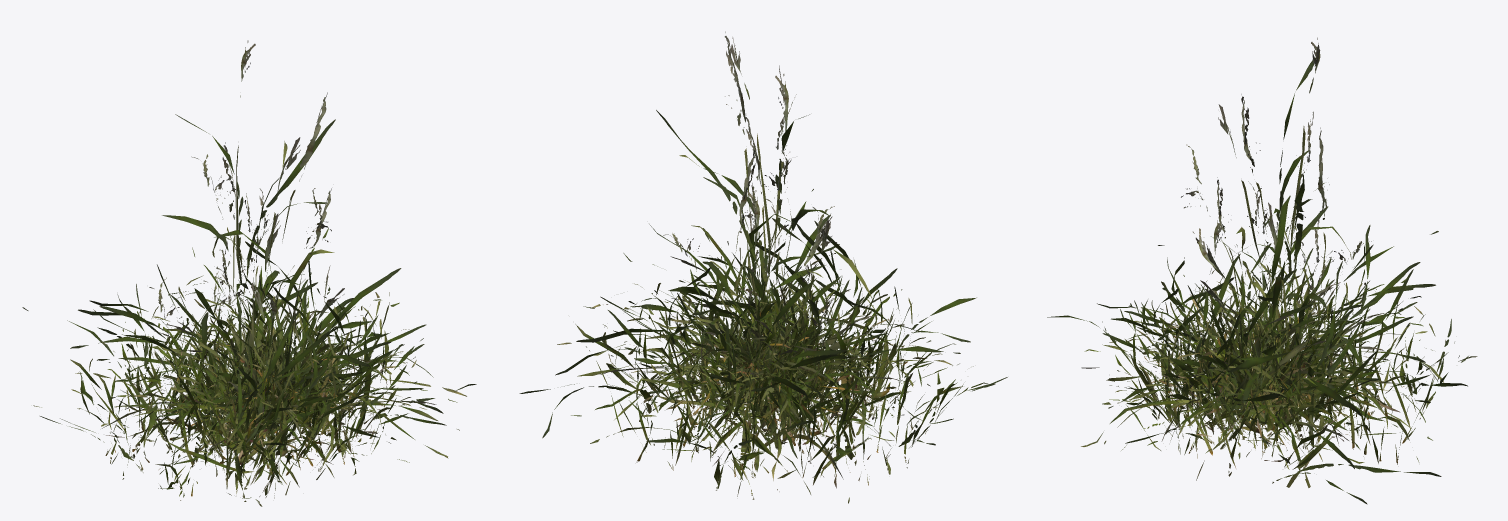
File: grass-medium-01.glb
3 renders of one model, left to right at view 1: azimuth 30°, elevation 25°; view 2: azimuth 150°, elevation 25°; view 3: azimuth 270°, elevation 25°, orthographic. The views are drawn at different scales.
Parts seen in each view (by area): view 1: grass_medium_01_large_a_LOD0, grass_medium_01_large_c_LOD0, grass_medium_01_large_b_LOD0, grass_medium_01_mid_a_LOD0, grass_medium_01_mid_c_LOD0, grass_medium_01_tall_a_LOD0, grass_medium_01_tall_b_LOD0, grass_medium_01_tall_c_LOD0, grass_medium_01_mid_b_LOD0, grass_medium_01_small_a_LOD0; view 2: grass_medium_01_large_a_LOD0, grass_medium_01_large_c_LOD0, grass_medium_01_large_b_LOD0, grass_medium_01_mid_a_LOD0, grass_medium_01_tall_a_LOD0, grass_medium_01_mid_b_LOD0, grass_medium_01_mid_c_LOD0, grass_medium_01_tall_b_LOD0, grass_medium_01_tall_c_LOD0, grass_medium_01_small_a_LOD0, grass_medium_01_small_b_LOD0; view 3: grass_medium_01_large_a_LOD0, grass_medium_01_large_c_LOD0, grass_medium_01_large_b_LOD0, grass_medium_01_mid_a_LOD0, grass_medium_01_tall_b_LOD0, grass_medium_01_tall_a_LOD0, grass_medium_01_mid_c_LOD0, grass_medium_01_tall_c_LOD0, grass_medium_01_mid_b_LOD0, grass_medium_01_small_b_LOD0.
Boxes of the visible parts, left/top/right/bottom form: grass_medium_01_large_a_LOD0: left=22, top=230, right=424, bottom=506; grass_medium_01_large_c_LOD0: left=99, top=271, right=476, bottom=484; grass_medium_01_large_b_LOD0: left=70, top=228, right=466, bottom=488; grass_medium_01_mid_a_LOD0: left=102, top=188, right=436, bottom=476; grass_medium_01_mid_c_LOD0: left=162, top=288, right=391, bottom=464; grass_medium_01_tall_a_LOD0: left=162, top=40, right=335, bottom=386; grass_medium_01_tall_b_LOD0: left=177, top=92, right=334, bottom=440; grass_medium_01_tall_c_LOD0: left=149, top=142, right=357, bottom=445; grass_medium_01_mid_b_LOD0: left=106, top=230, right=348, bottom=496; grass_medium_01_small_a_LOD0: left=147, top=285, right=299, bottom=486; grass_medium_01_large_a_LOD0: left=519, top=224, right=1007, bottom=503; grass_medium_01_large_c_LOD0: left=555, top=214, right=970, bottom=476; grass_medium_01_large_b_LOD0: left=571, top=225, right=952, bottom=453; grass_medium_01_mid_a_LOD0: left=600, top=115, right=898, bottom=479; grass_medium_01_tall_a_LOD0: left=651, top=37, right=830, bottom=427; grass_medium_01_mid_b_LOD0: left=639, top=199, right=882, bottom=491; grass_medium_01_mid_c_LOD0: left=621, top=224, right=898, bottom=431; grass_medium_01_tall_b_LOD0: left=679, top=31, right=877, bottom=432; grass_medium_01_tall_c_LOD0: left=691, top=146, right=860, bottom=445; grass_medium_01_small_a_LOD0: left=699, top=237, right=922, bottom=458; grass_medium_01_small_b_LOD0: left=657, top=273, right=878, bottom=452; grass_medium_01_large_a_LOD0: left=1047, top=206, right=1477, bottom=504; grass_medium_01_large_c_LOD0: left=1081, top=244, right=1430, bottom=468; grass_medium_01_large_b_LOD0: left=1081, top=215, right=1443, bottom=480; grass_medium_01_mid_a_LOD0: left=1122, top=177, right=1411, bottom=441; grass_medium_01_tall_b_LOD0: left=1170, top=94, right=1351, bottom=440; grass_medium_01_tall_a_LOD0: left=1158, top=37, right=1372, bottom=406; grass_medium_01_mid_c_LOD0: left=1124, top=237, right=1406, bottom=452; grass_medium_01_tall_c_LOD0: left=1192, top=127, right=1357, bottom=428; grass_medium_01_mid_b_LOD0: left=1137, top=210, right=1406, bottom=471; grass_medium_01_small_b_LOD0: left=1158, top=306, right=1397, bottom=458.
Bounding box in the file's own units: 0.3169 × 0.3205 × 0.3063.
Materials: 17 (17 with a texture image).
